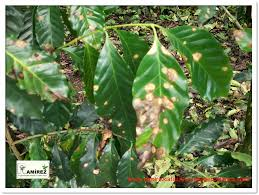ojo de gallo: (140, 47, 183, 159)
